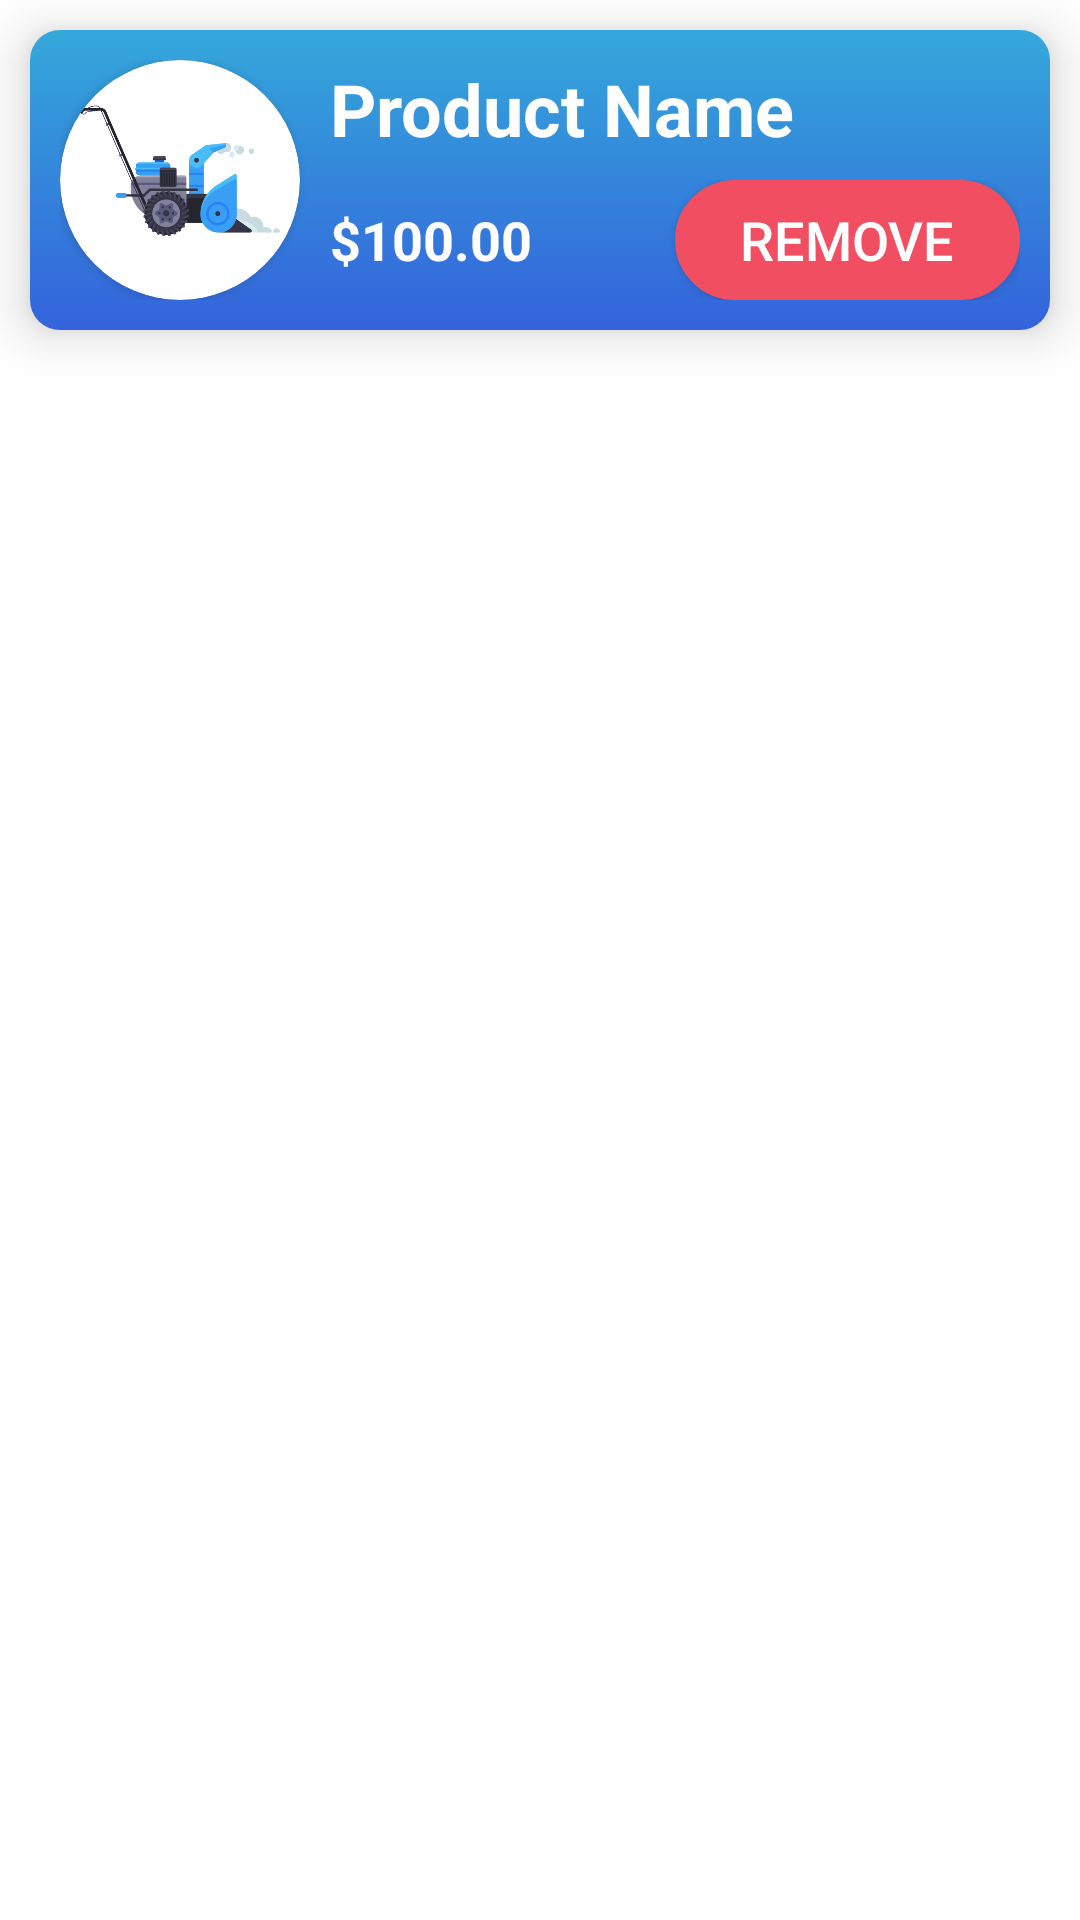

Named icons in this screenshot (1080×1920) and their centers, [x,y]:
toolone: [180,180]
